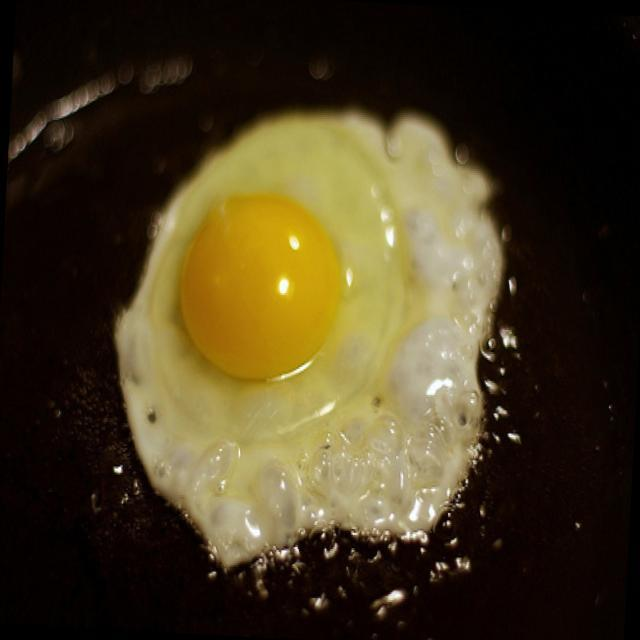Egg: (102, 83, 516, 575)
